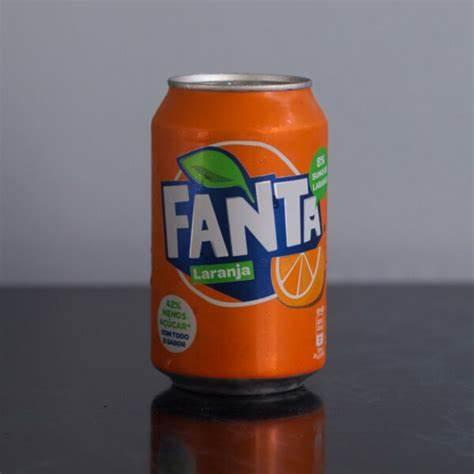metal: (152, 74, 328, 395)
